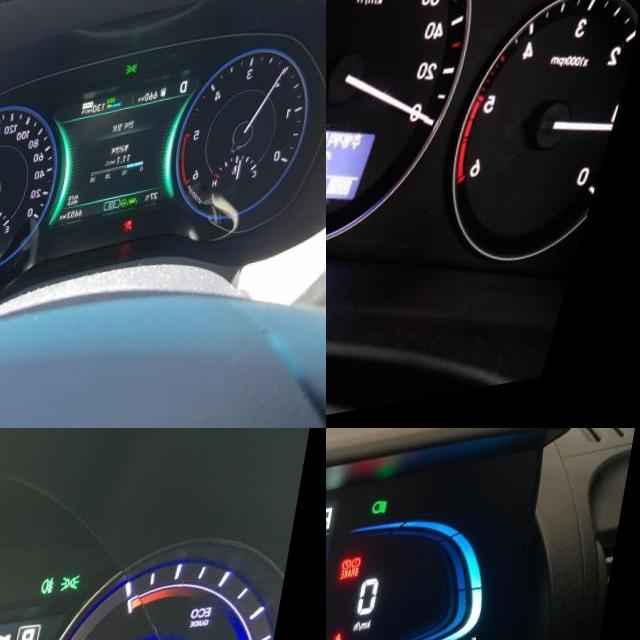FrontFogLight: (49, 591, 64, 608)
Low beam: (381, 512, 398, 529)
SideLamp: (68, 587, 91, 608), (132, 74, 145, 85)
